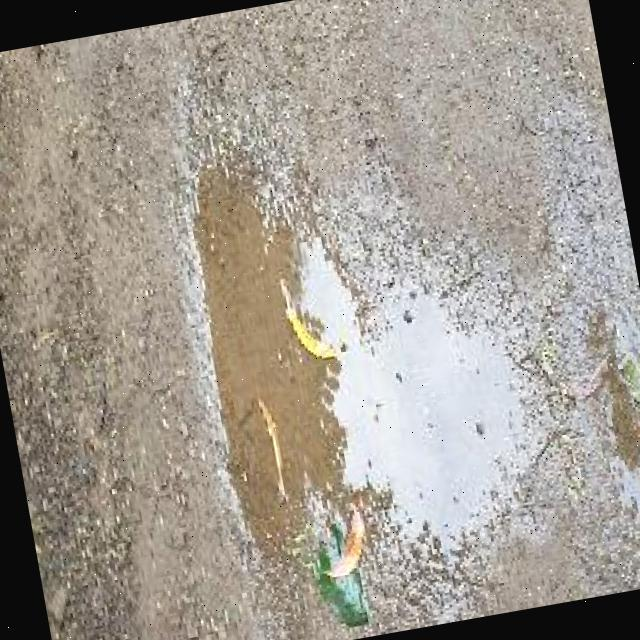stagnation: (151, 74, 578, 594)
